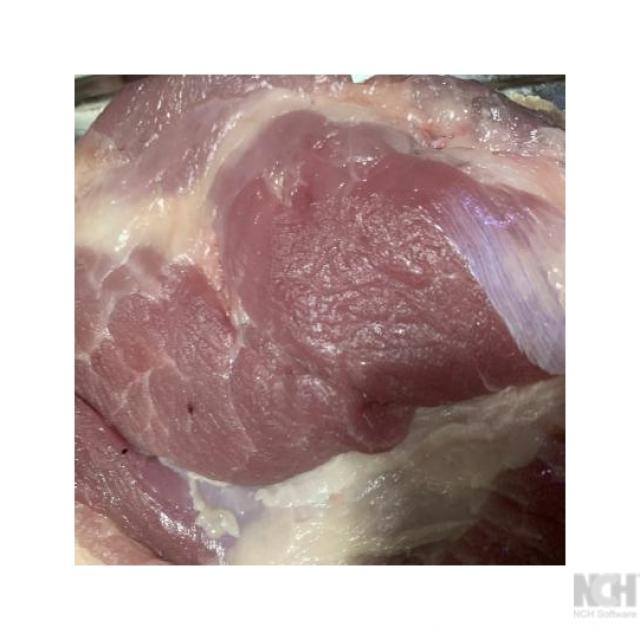rotten meat: (42, 57, 577, 571)
